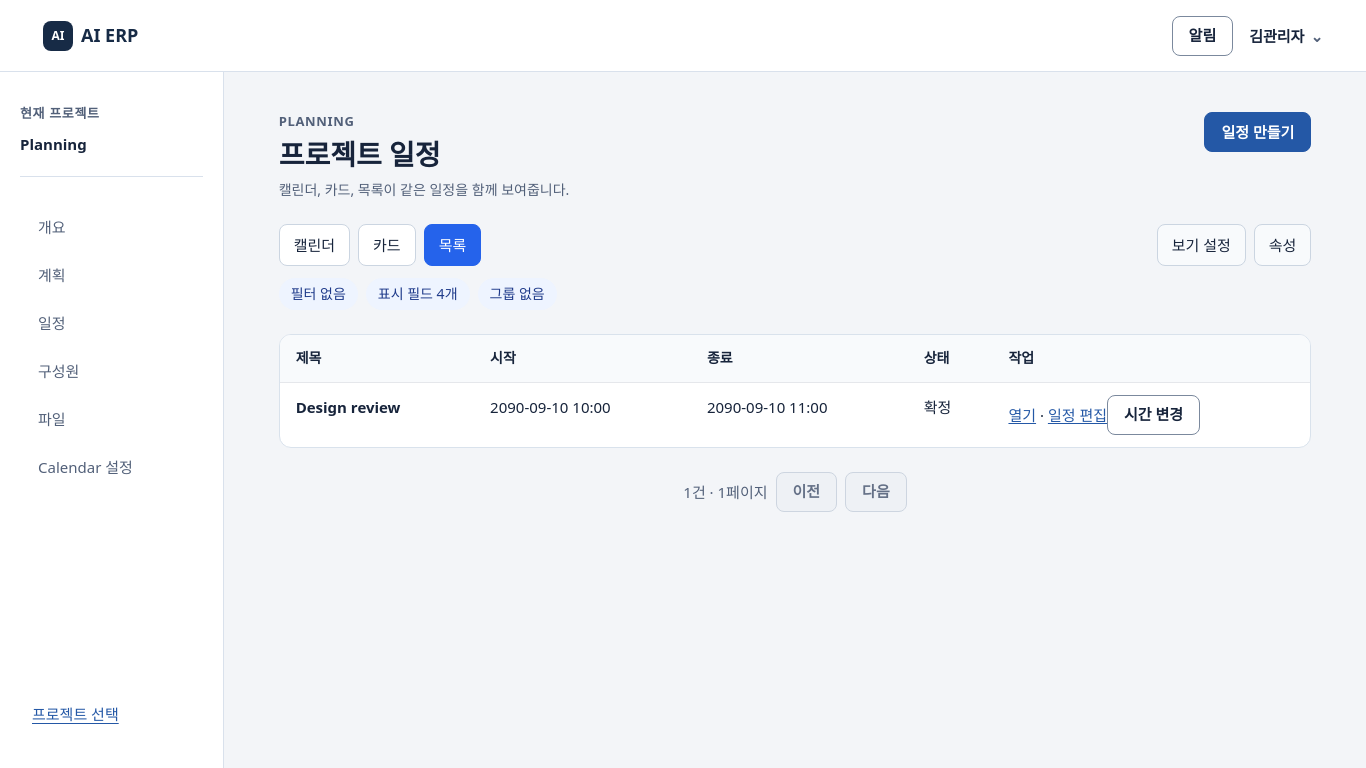
Scenario: List uncertain uncommitted outcome is resolved without replay and requires fresh re-entry
The image size is (1366, 768).
Click the button with aria-label "시간 변경: Design review".
click(1154, 415)  # box [1107, 395, 1200, 435]
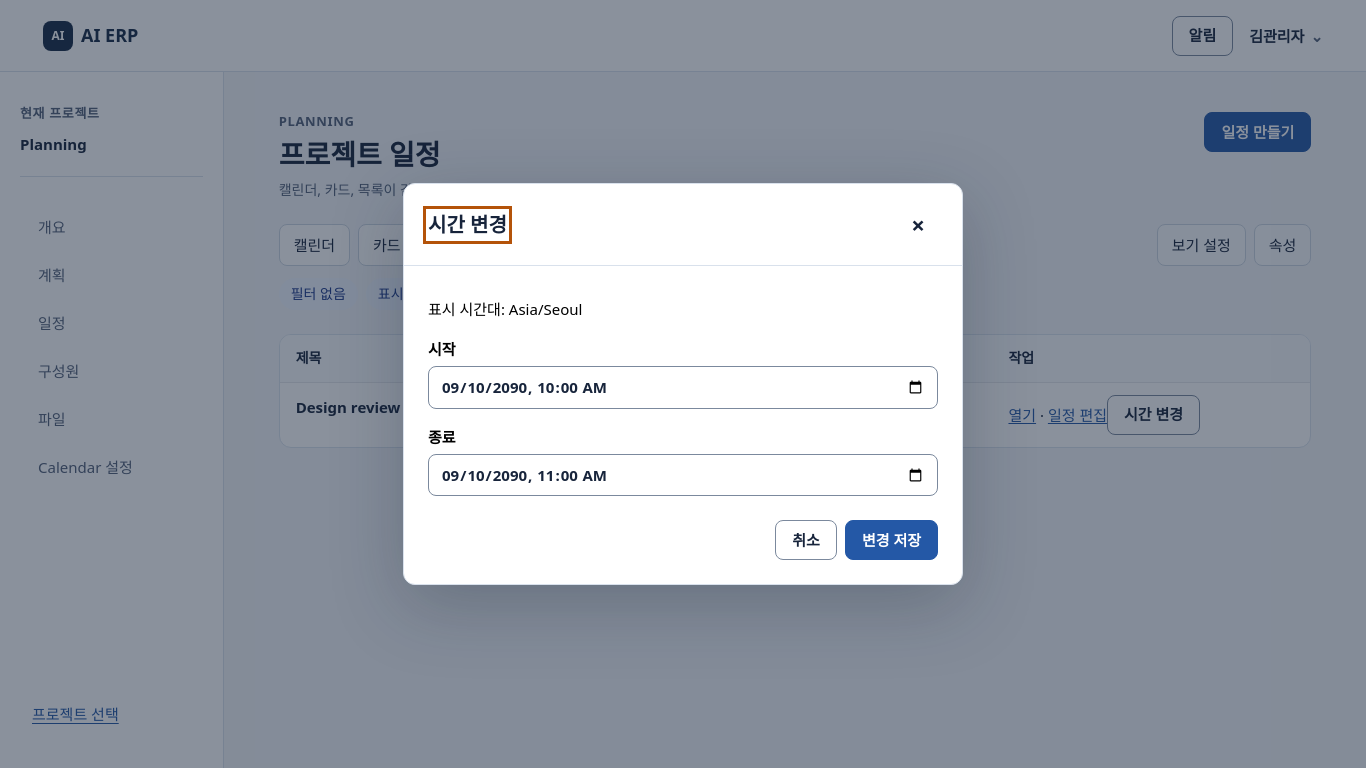
Replace the text in the field labelled "시작" with "2090-09-10T10:30" at {"x": 683, "y": 388}, box [428, 366, 938, 409]
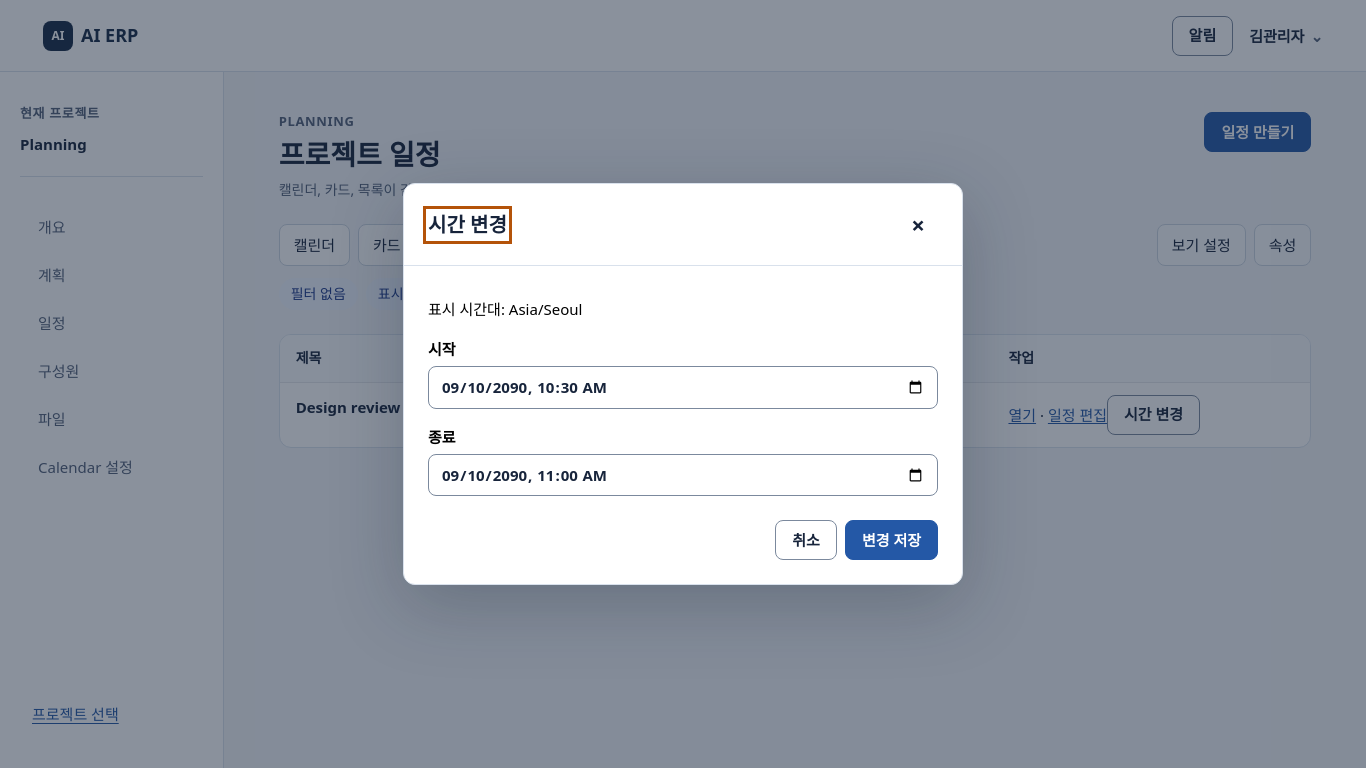
Click the button "변경 저장".
click(891, 540)  # box [845, 520, 938, 560]
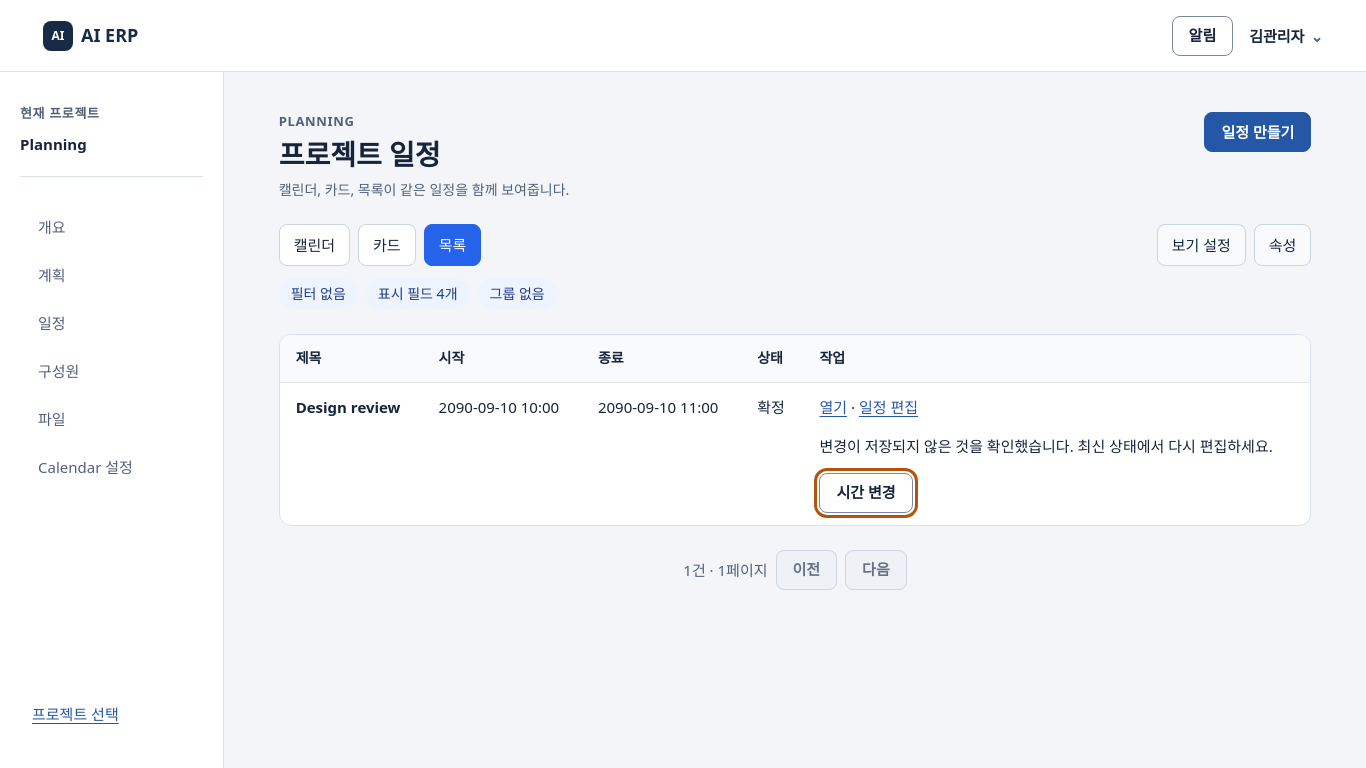
Result: the message shows "저장되지 않은 것을 확인했습니다" at [820, 436, 1273, 456]
